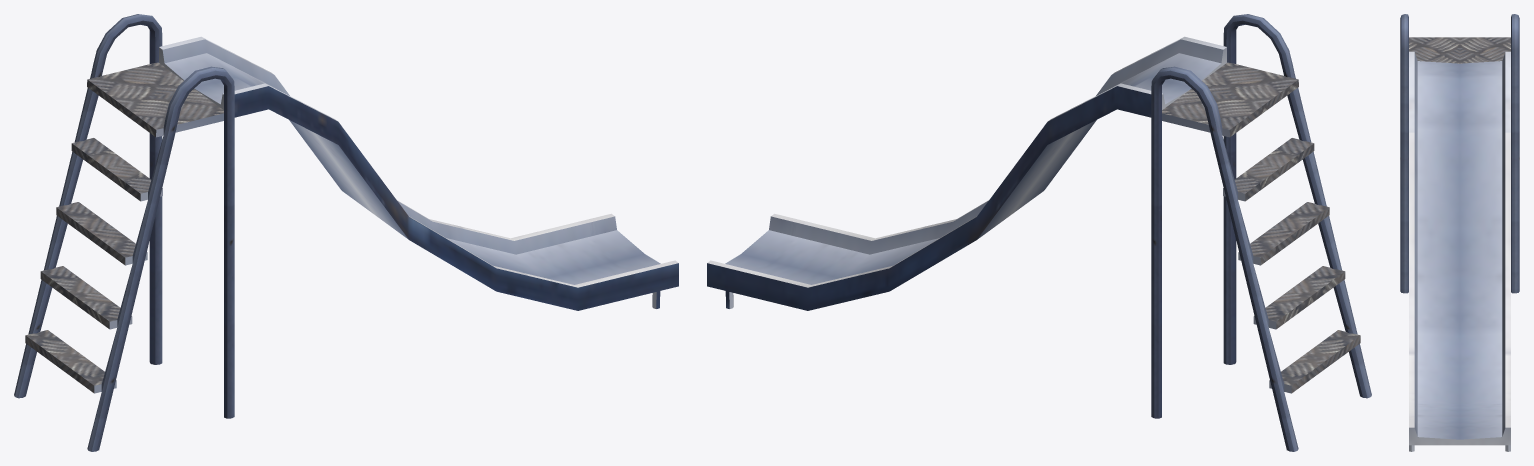
The model's file is slide.fbx.
The picture shows the model from 3 angles, left to right: view 1: azimuth 30°, elevation 25°; view 2: azimuth 150°, elevation 25°; view 3: azimuth 270°, elevation 25°; orthographic projection. The views are drawn at different scales.
Parts seen in each view (by area): view 1: Ladder, Slide; view 2: Ladder, Slide; view 3: Slide, Ladder.
Boxes of the visible parts, x1,y1,x2,y2 form: Ladder: (14, 14, 234, 451); Slide: (159, 36, 678, 310); Ladder: (1151, 14, 1371, 451); Slide: (707, 36, 1226, 310); Slide: (1409, 51, 1510, 451); Ladder: (1400, 14, 1519, 293).
Bounding box in the file's own units: 797 × 452 × 184.
